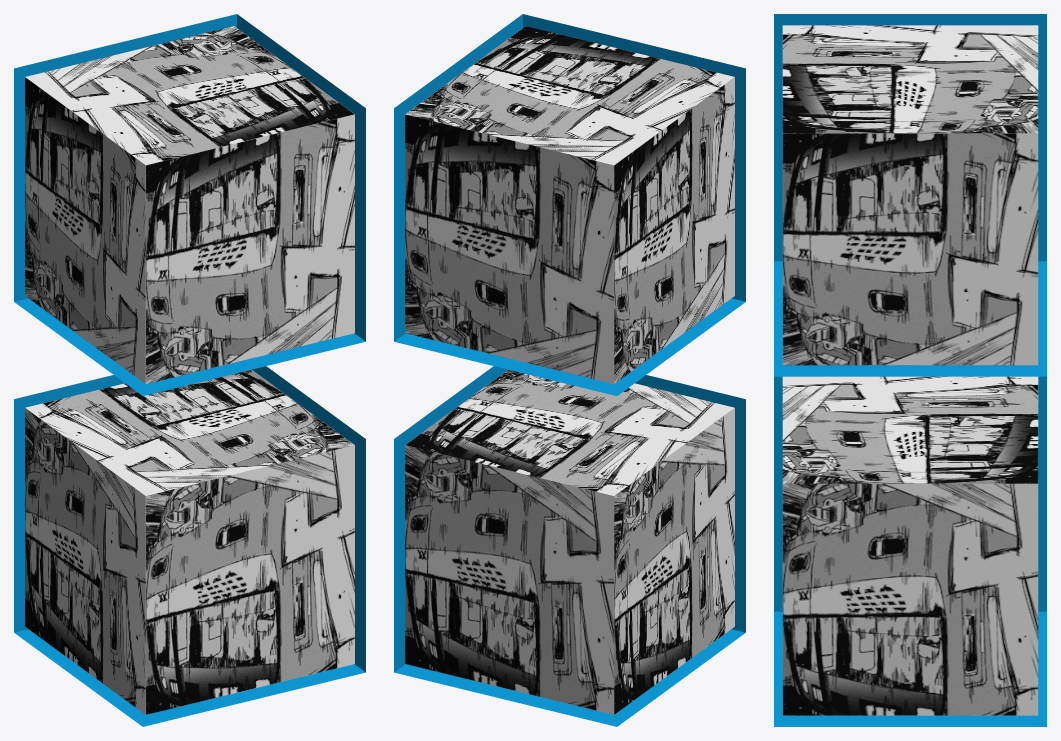
Rendered from ICON_21XX.glb.
The picture shows the model from 3 angles, left to right: view 1: azimuth 30°, elevation 25°; view 2: azimuth 150°, elevation 25°; view 3: azimuth 270°, elevation 25°; orthographic projection. The views are drawn at different scales.
Parts seen in each view (by area): view 1: ICON_21XX, obj10, obj3, obj12; view 2: ICON_21XX, obj10, obj3, obj12; view 3: ICON_21XX, obj10, obj3, obj12.
Part boxes in pixels (x1,y1,x2,y2): ICON_21XX: (25,26,354,383); obj10: (25,369,354,714); obj3: (14,14,365,395); obj12: (14,366,365,726); ICON_21XX: (405,26,734,383); obj10: (405,369,734,714); obj3: (394,14,745,395); obj12: (394,366,745,726); ICON_21XX: (782,25,1038,365); obj10: (782,376,1038,715); obj3: (774,14,1046,376); obj12: (774,376,1046,726).
Size of the model in its own units: 2.4 by 5.8 by 2.4.
10 materials, 10 textured.
